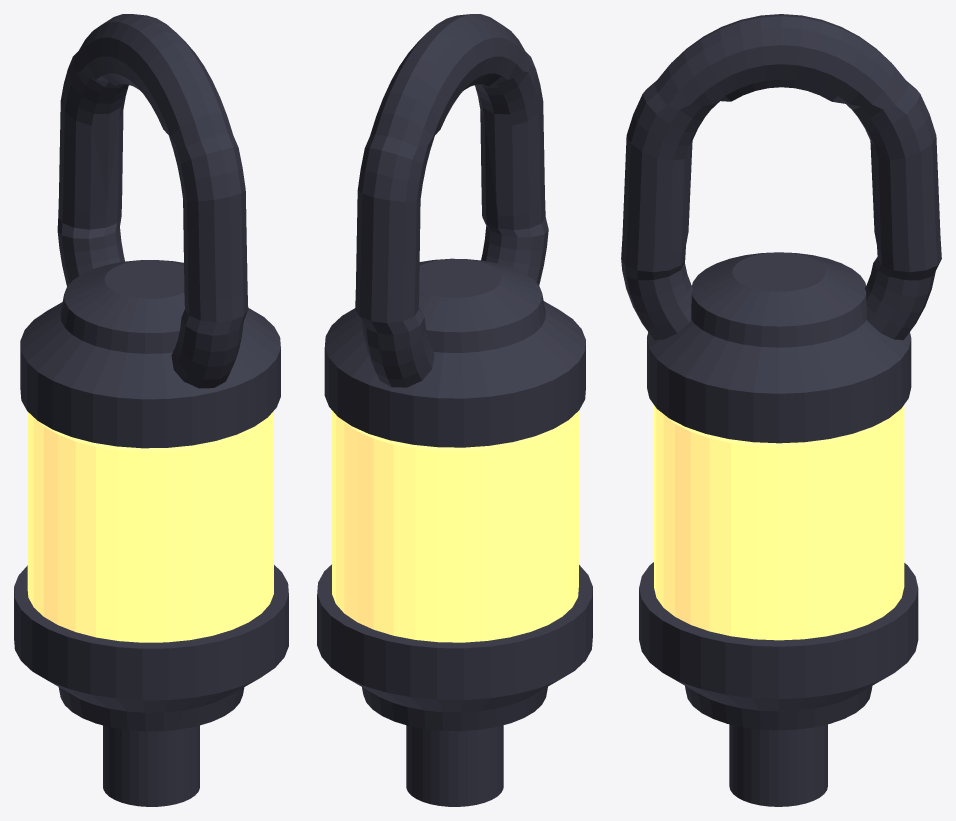
File: lantern.fbx
3 views of the same model, side by side, from view 1: azimuth 30°, elevation 25°; view 2: azimuth 150°, elevation 25°; view 3: azimuth 270°, elevation 25° (orthographic).
Visible parts, largest first — view 1: Frame_Top, Glass, Frame_Base; view 2: Frame_Top, Glass, Frame_Base; view 3: Frame_Top, Glass, Frame_Base.
Part boxes in pixels (box(x1,y1,x2,y2)): Frame_Top: box(20, 14, 280, 448); Glass: box(27, 411, 273, 642); Frame_Base: box(14, 565, 288, 806); Frame_Top: box(324, 14, 585, 447); Glass: box(332, 410, 578, 642); Frame_Base: box(317, 564, 592, 806); Frame_Top: box(621, 14, 941, 443); Glass: box(654, 405, 904, 640); Frame_Base: box(639, 562, 918, 806).
Bounding box in the file's own units: 297 × 904 × 341.
